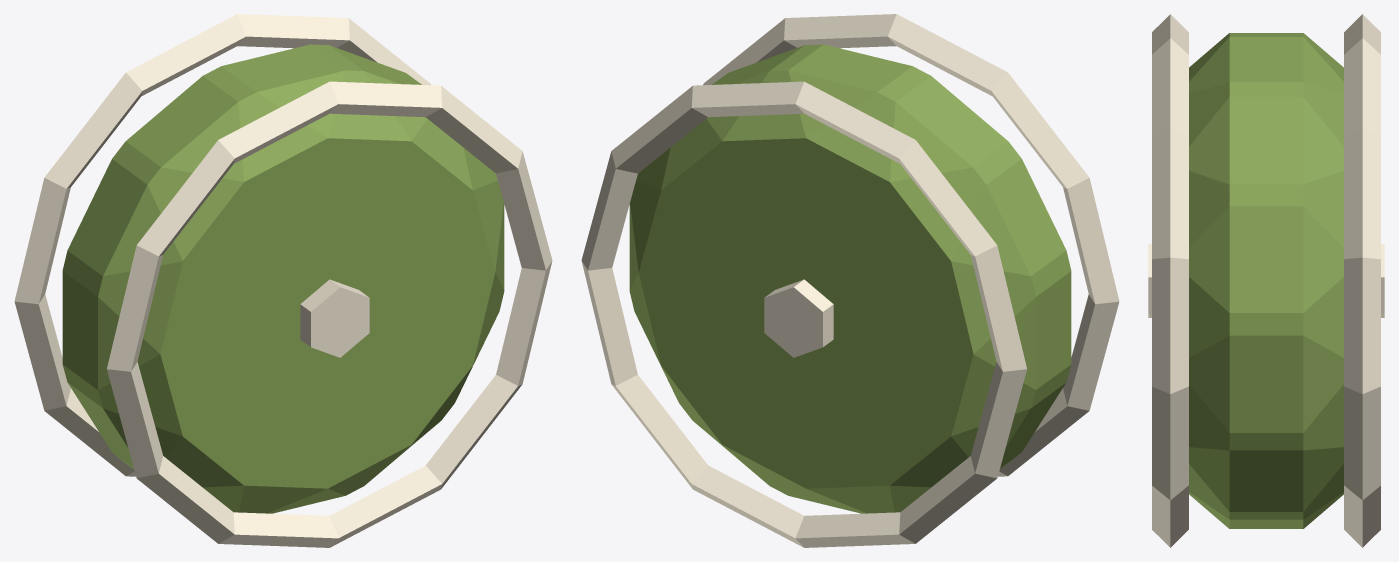
File: cushion_round.glb
The picture shows the model from 3 angles, left to right: view 1: azimuth 30°, elevation 25°; view 2: azimuth 150°, elevation 25°; view 3: azimuth 270°, elevation 25°; orthographic projection. The views are drawn at different scales.
Parts seen in each view (by area): view 1: cushion_round; view 2: cushion_round; view 3: cushion_round.
Part boxes in pixels (x1=…): cushion_round: x1=14, y1=14, x2=552, y2=547; cushion_round: x1=581, y1=14, x2=1119, y2=547; cushion_round: x1=1148, y1=14, x2=1384, y2=547.
Size of the model in its own units: 0.29 by 0.29 by 0.128.
